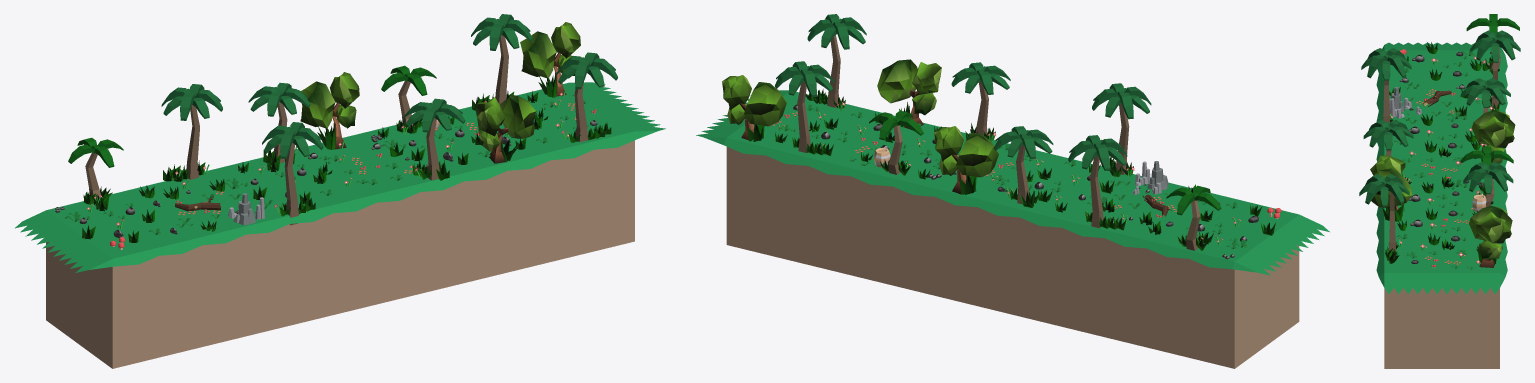
The model's file is shato platform.glb.
The picture shows the model from 3 angles, left to right: view 1: azimuth 30°, elevation 25°; view 2: azimuth 150°, elevation 25°; view 3: azimuth 270°, elevation 25°; orthographic projection. The views are drawn at different scales.
Visible parts, largest first — view 1: blockLarge.014, Cube.197, Cube.080, Cube.196, Group 154.008, Group 154.001, Group 154.018, Group 154.009, Group 154.019, Group 154.010, Group 25.009, Group 25.008 (+5 smaller); view 2: blockLarge.014, Cube.197, Cube.196, Cube.080, Group 154.018, Group 154.001, Group 154.008, Group 154.009, Group 154.019, Group 154.010, Group 25.008, Group 25.009 (+3 smaller); view 3: blockLarge.014, Cube.196, Cube.197, Cube.080, Group 154.009, Group 154.008, Group 154.018, Group 154.001, Group 154.010, Group 154.019, Group 25.009, Group 25.008 (+6 smaller).
Boxes of the visible parts, bbox=[...] form: blockLarge.014: bbox=[15, 82, 665, 368]; Cube.197: bbox=[300, 72, 359, 149]; Cube.080: bbox=[475, 95, 536, 163]; Cube.196: bbox=[520, 22, 580, 97]; Group 154.008: bbox=[262, 122, 323, 158]; Group 154.001: bbox=[471, 14, 532, 50]; Group 154.018: bbox=[161, 84, 222, 120]; Group 154.009: bbox=[556, 52, 617, 89]; Group 154.019: bbox=[248, 82, 310, 116]; Group 154.010: bbox=[403, 98, 465, 132]; Group 25.009: bbox=[381, 65, 436, 95]; Group 25.008: bbox=[68, 137, 123, 167]; blockLarge.014: bbox=[696, 90, 1329, 368]; Cube.197: bbox=[934, 126, 998, 194]; Cube.196: bbox=[722, 75, 786, 141]; Cube.080: bbox=[877, 59, 941, 130]; Group 154.018: bbox=[1068, 135, 1127, 170]; Group 154.001: bbox=[775, 61, 834, 97]; Group 154.008: bbox=[1092, 83, 1151, 119]; Group 154.009: bbox=[807, 14, 866, 49]; Group 154.019: bbox=[994, 126, 1053, 158]; Group 154.010: bbox=[951, 62, 1010, 94]; Group 25.008: bbox=[1166, 185, 1221, 215]; Group 25.009: bbox=[869, 110, 923, 140]; blockLarge.014: bbox=[1376, 42, 1507, 368]; Cube.196: bbox=[1469, 206, 1512, 267]; Cube.197: bbox=[1471, 110, 1515, 163]; Cube.080: bbox=[1370, 155, 1412, 221]; Group 154.009: bbox=[1359, 174, 1409, 206]; Group 154.008: bbox=[1361, 48, 1411, 80]; Group 154.018: bbox=[1470, 30, 1520, 62]; Group 154.001: bbox=[1463, 162, 1513, 194]; Group 154.010: bbox=[1363, 119, 1413, 149]; Group 154.019: bbox=[1460, 78, 1510, 107]; Group 25.009: bbox=[1460, 146, 1513, 165]; Group 25.008: bbox=[1466, 14, 1519, 33].
Size of the model in its own units: 23.13 by 7.34 by 6.24.
Materials: 79 (18 with a texture image).
